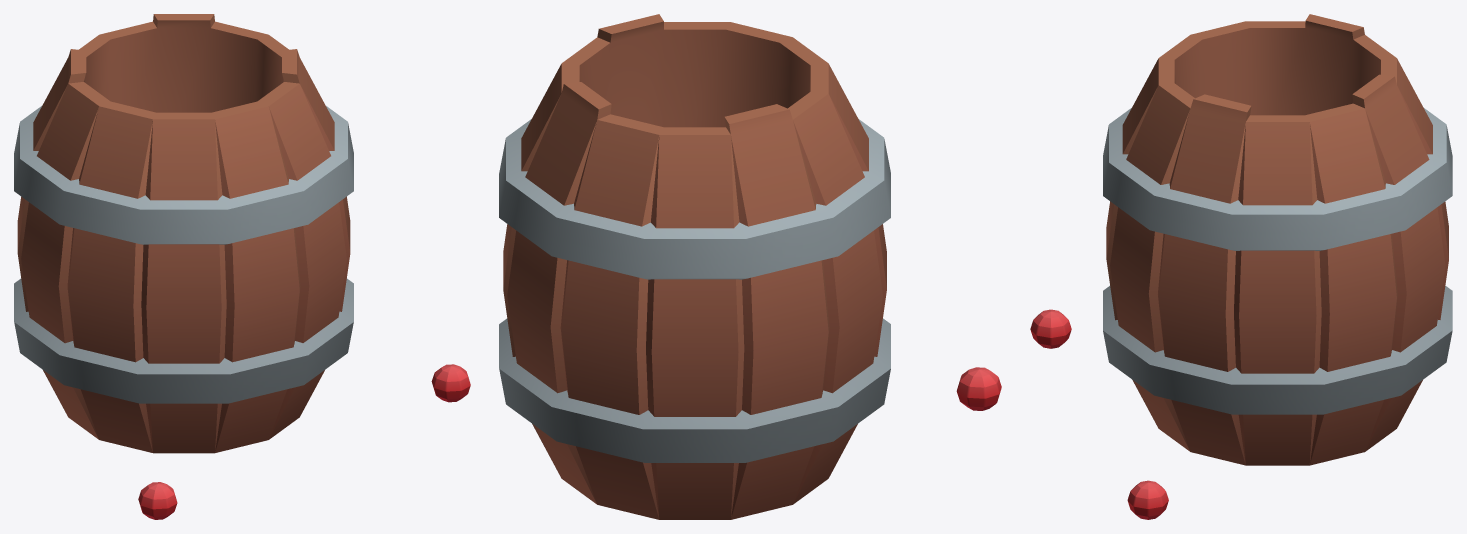
The model's file is apple_barrel_12.glb.
3 views of the same model, side by side, from view 1: azimuth 30°, elevation 25°; view 2: azimuth 150°, elevation 25°; view 3: azimuth 270°, elevation 25° (orthographic). The views are drawn at different scales.
Visible parts, largest first — view 1: apple_barrel_12; view 2: apple_barrel_12; view 3: apple_barrel_12.
Part boxes in pixels (box(x1,y1,x2,y2)): apple_barrel_12: box(14, 14, 470, 519); apple_barrel_12: box(499, 14, 1001, 519); apple_barrel_12: box(1030, 14, 1452, 519).
Size of the model in its own units: 1.38 by 1.2 by 1.3.
Materials: 2 (2 with a texture image).
